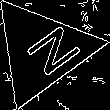N_SW: (8, 19, 77, 82)
